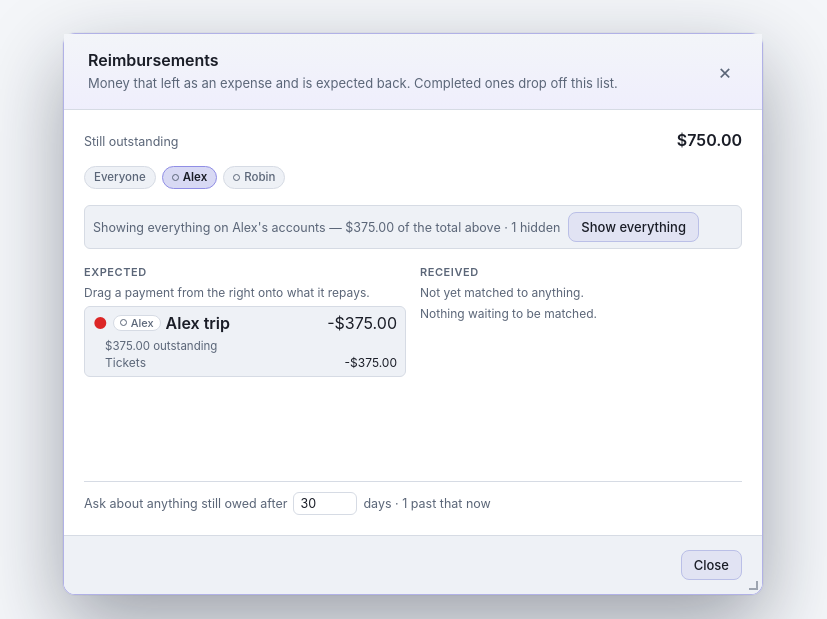
Test: opened from a reminder › lets the narrowing be dropped
This screenshot has width=827, height=619.
Click the button "Show everything". click: (634, 227)
box: [568,212,699,242]
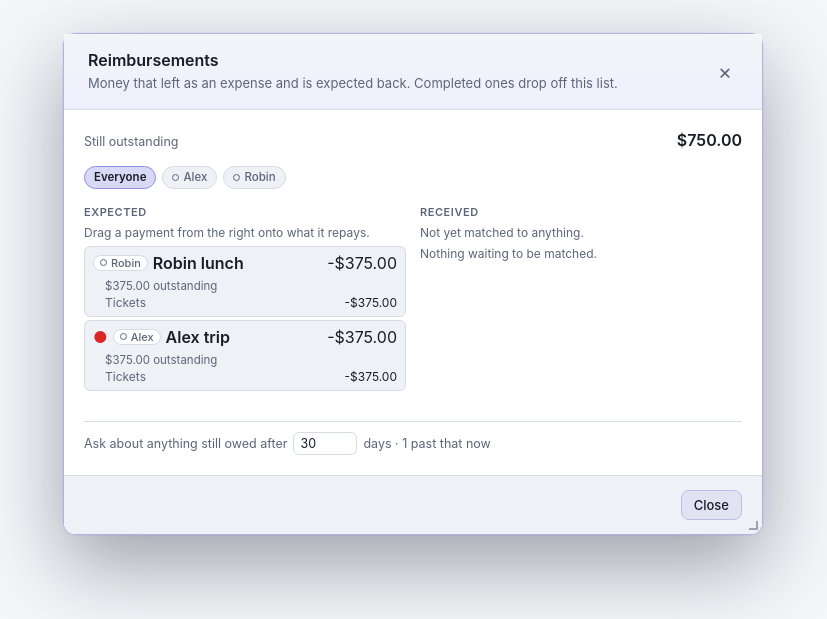
Expected: the text "Robin lunch" is shown, [153,253,244,273]
